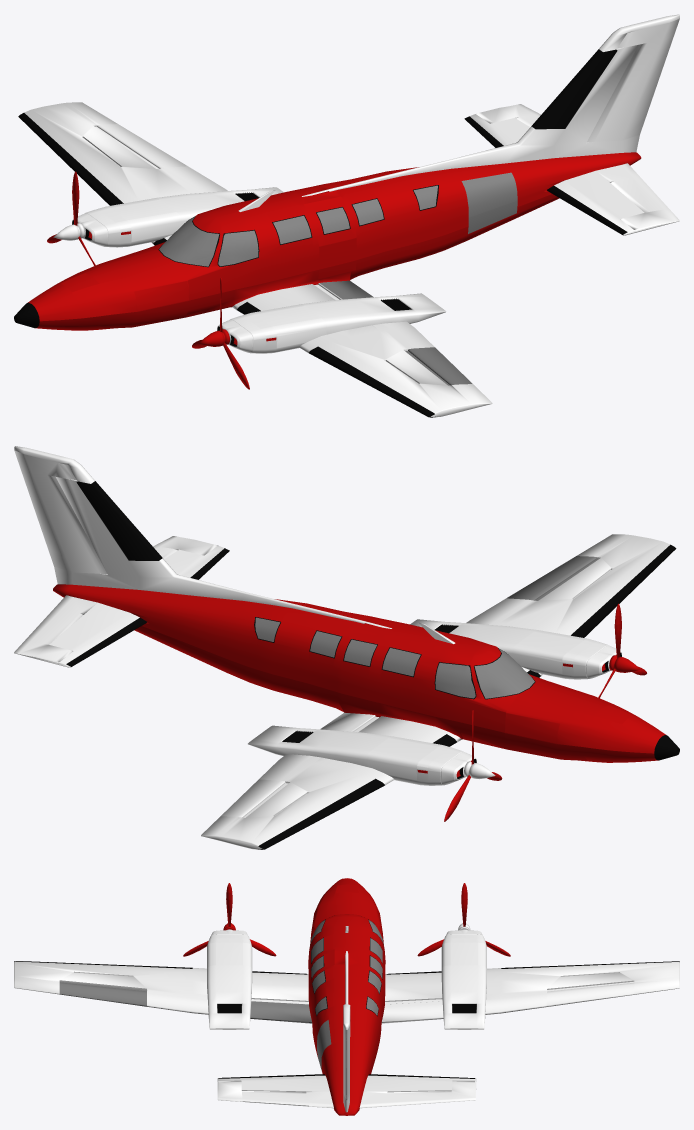
The model's file is cessna.obj.
3 renders of one model, top to bottom at view 1: azimuth 30°, elevation 25°; view 2: azimuth 150°, elevation 25°; view 3: azimuth 270°, elevation 25°, orthographic. The views are drawn at different scales.
Visible parts, largest first — view 1: fuselage, wings, engine, tail, fuslage2, deicing, rudder, glass, elevator, rflaps, access, flaps (+8 smaller); view 2: fuselage, wings, engine, fuslage2, tail, deicing, glass, rudder, elevator, rflaps, access, flaps2 (+3 smaller); view 3: wings, fuselage, engine, rflaps, elevator, flaps2, flaps, glass, deicing, access, rudder, vents2 (+5 smaller).
Boxes of the visible parts, box(x1,y1,x2,y2) form: fuselage: box(27, 152, 641, 321); wings: box(24, 102, 492, 417); engine: box(77, 187, 446, 353); tail: box(302, 14, 679, 196); fuslage2: box(35, 159, 640, 330); deicing: box(18, 49, 627, 417); rudder: box(586, 18, 679, 142); glass: box(159, 185, 437, 266); elevator: box(465, 114, 679, 235); rflaps: box(476, 104, 679, 230); access: box(107, 198, 326, 348); flaps: box(319, 280, 472, 385); fuselage: box(53, 584, 665, 753); wings: box(201, 534, 670, 849); engine: box(248, 619, 616, 785); fuslage2: box(53, 591, 658, 762); tail: box(14, 446, 391, 628); deicing: box(66, 481, 676, 849); glass: box(255, 617, 534, 698); rudder: box(14, 450, 107, 574); elevator: box(14, 546, 229, 667); rflaps: box(14, 536, 218, 662); access: box(367, 630, 586, 780); flaps2: box(221, 712, 374, 817); wings: box(14, 961, 679, 1014); fuselage: box(308, 878, 385, 1115); engine: box(207, 930, 486, 1029); rflaps: box(217, 1080, 476, 1108); elevator: box(217, 1075, 476, 1106); flaps2: box(381, 981, 634, 1023); flaps: box(59, 981, 312, 1023); glass: box(310, 920, 383, 1015); deicing: box(14, 961, 679, 1078); access: box(207, 942, 486, 968); rudder: box(343, 1015, 350, 1100); vents2: box(217, 1004, 476, 1013).
Bounding box in the file's own units: 41.2 × 10.24 × 44.3.
